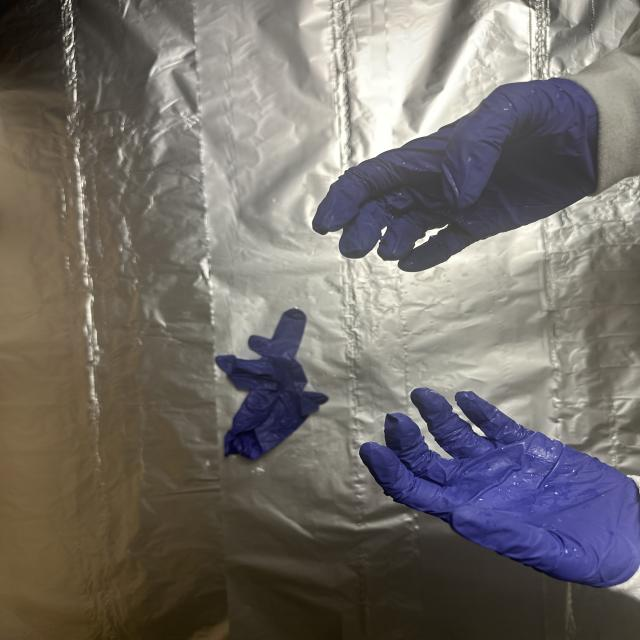gloves_contaminated: (313, 79, 603, 272), (360, 388, 640, 587)
